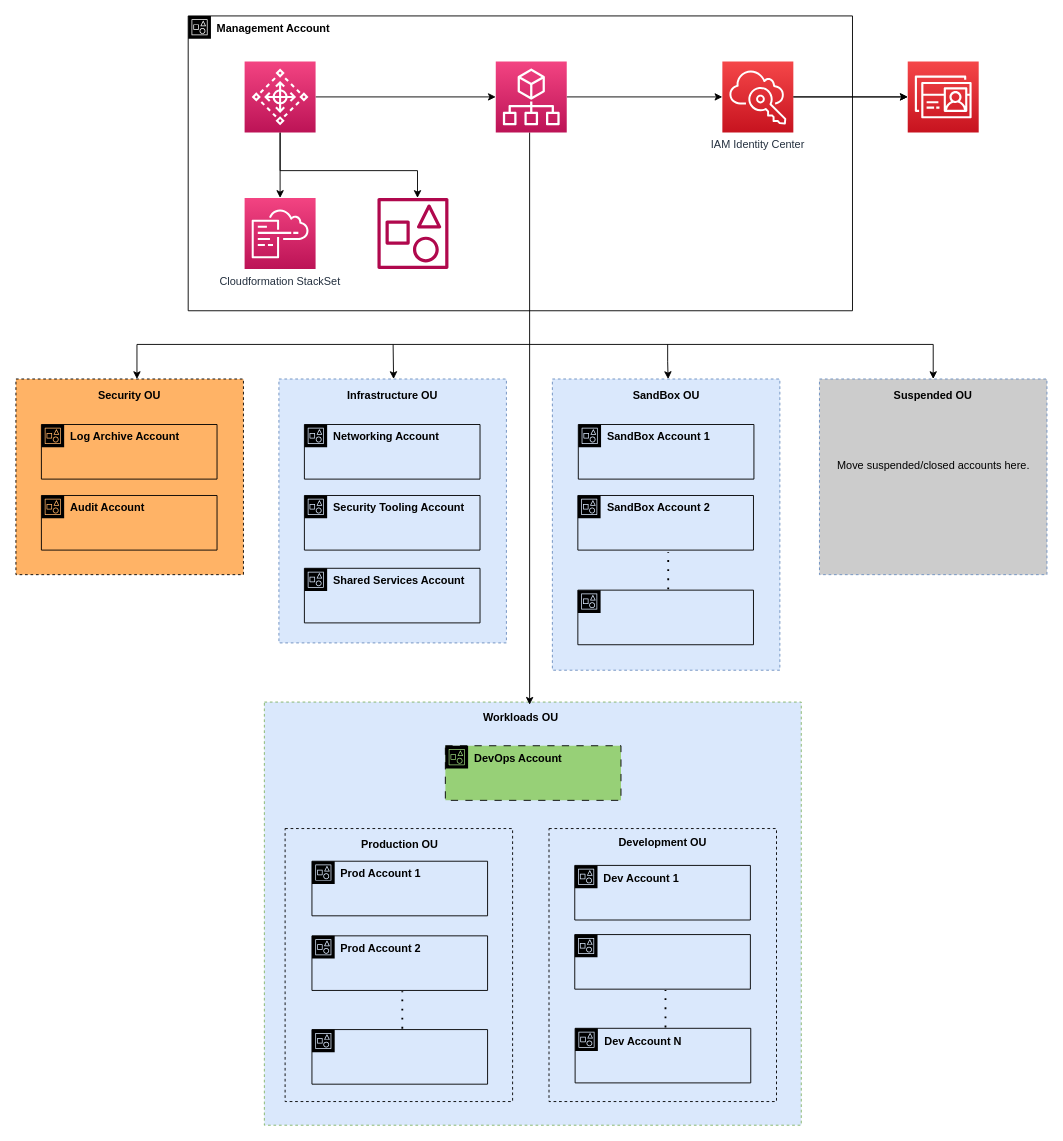
The diagram is 1063 pixels wide and 1141 high, and some of its shapes have lost their labels. The shapes that lost their labels are listed below. From the top down, each one's centre as x and y in pixels, then its label:
At point (280, 96): "AWS Control Tower".
At point (531, 96): "AWS Organizations".
At point (943, 96): "Federation with external IdP".
At point (412, 232): "Account Factory".
At point (665, 617): "SandBox Account N".
At point (662, 961): "Dev Account 2".
At point (399, 1056): "Prod Account N".
